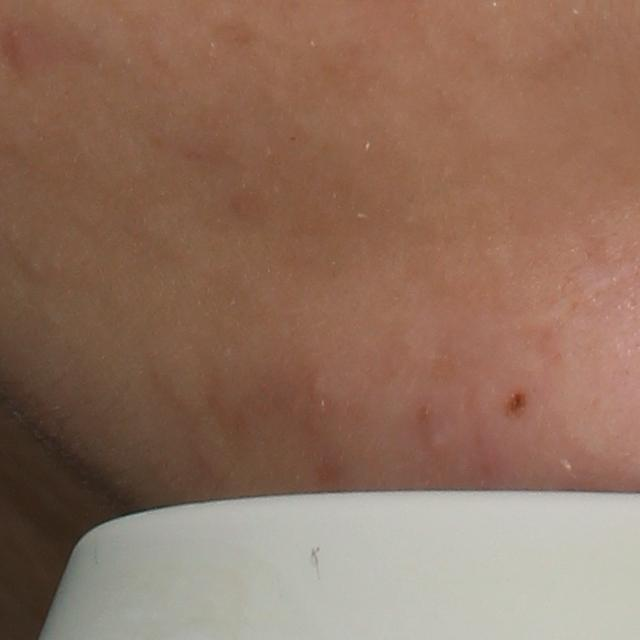comedo: (424, 434, 447, 456)
nevus: (504, 389, 534, 419)
